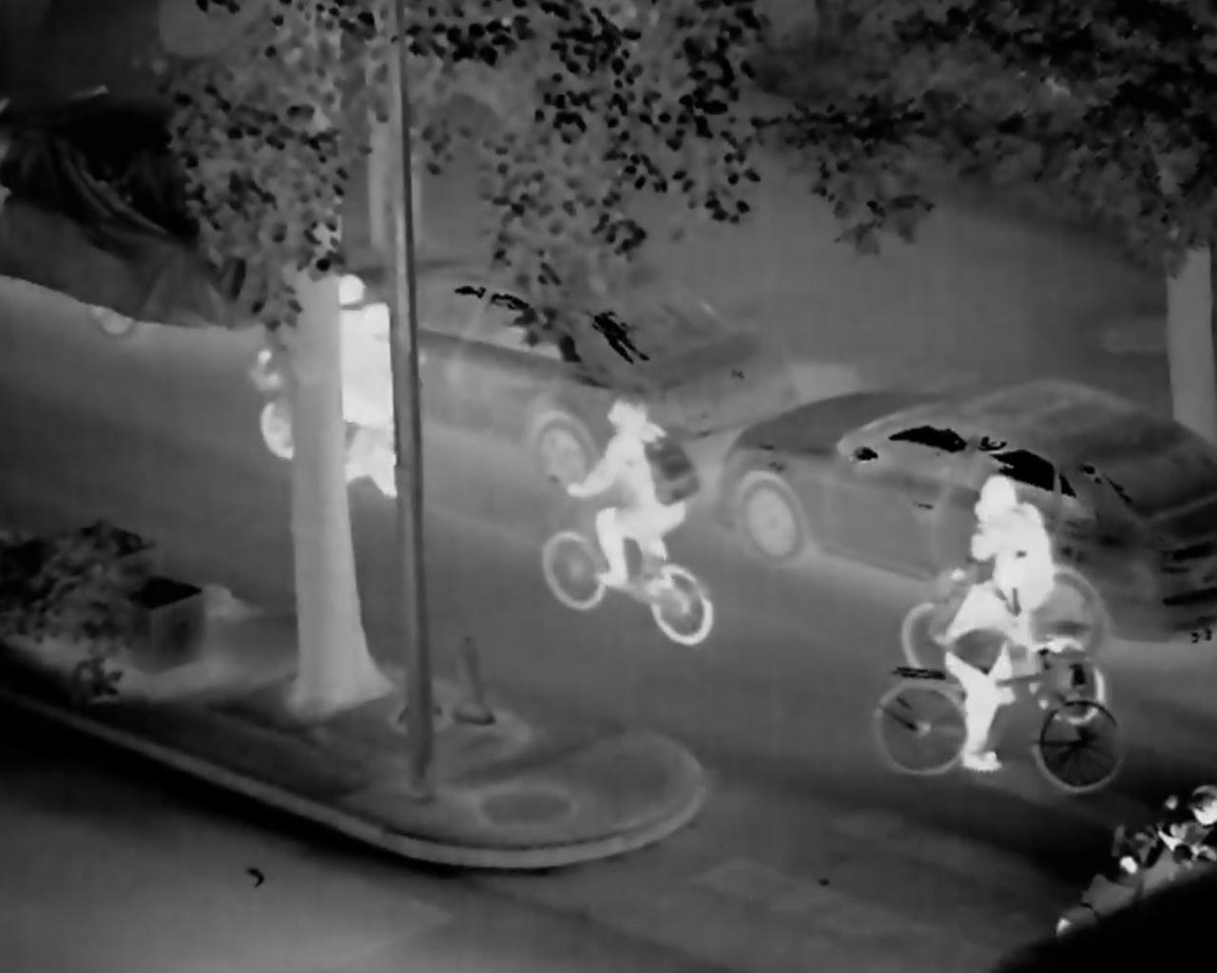person: (935, 547, 1058, 763), (580, 391, 696, 603), (961, 470, 1078, 617), (357, 302, 399, 486), (338, 272, 368, 419)
